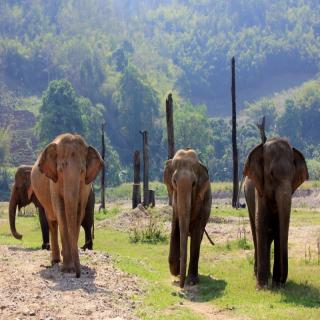Elephant: (234, 135, 309, 290), (32, 129, 104, 279), (162, 142, 218, 290)
